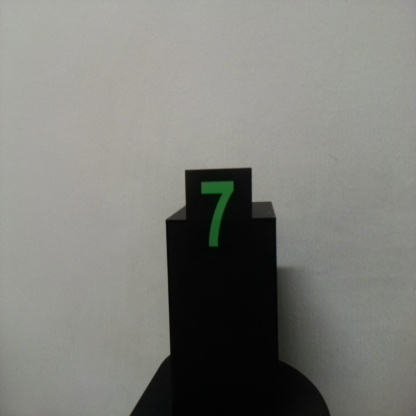id_7: (185, 170, 252, 273)
